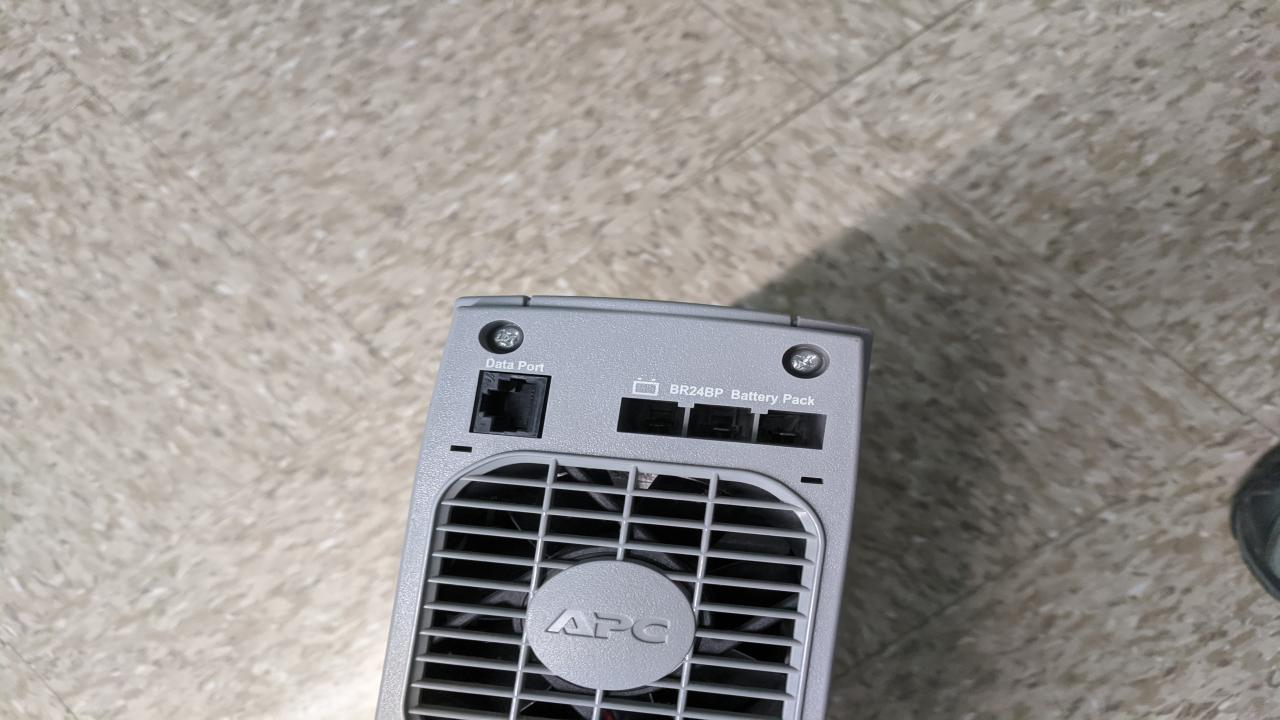CRS: (486, 323, 528, 352), (786, 348, 824, 378)
